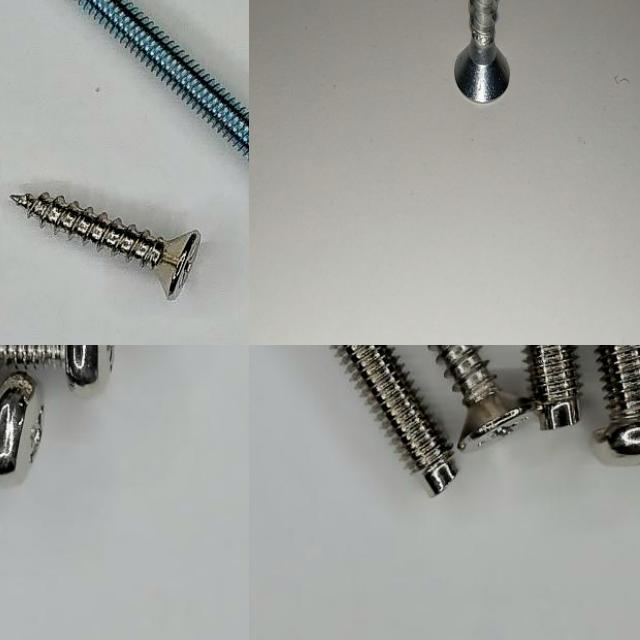Screw: (75, 0, 249, 159), (10, 193, 200, 299), (332, 345, 456, 495), (429, 345, 530, 449), (454, 0, 510, 102), (596, 345, 640, 456), (524, 345, 580, 430), (0, 372, 42, 475)
